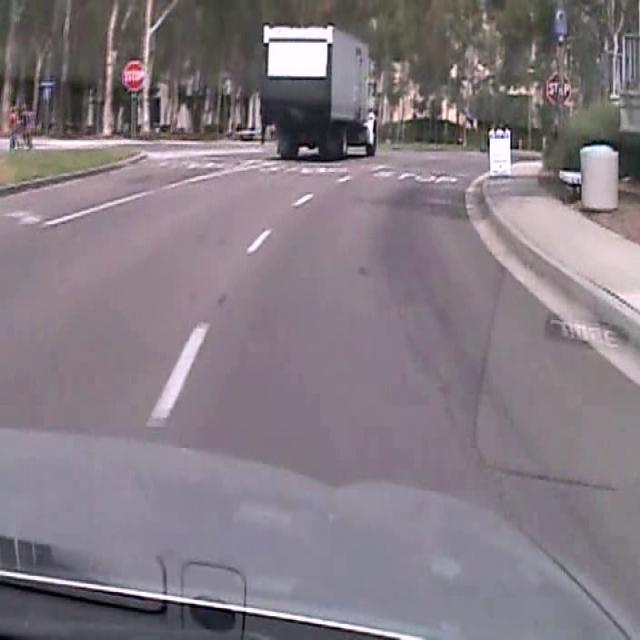stop: (545, 71, 570, 105), (122, 60, 144, 92)
